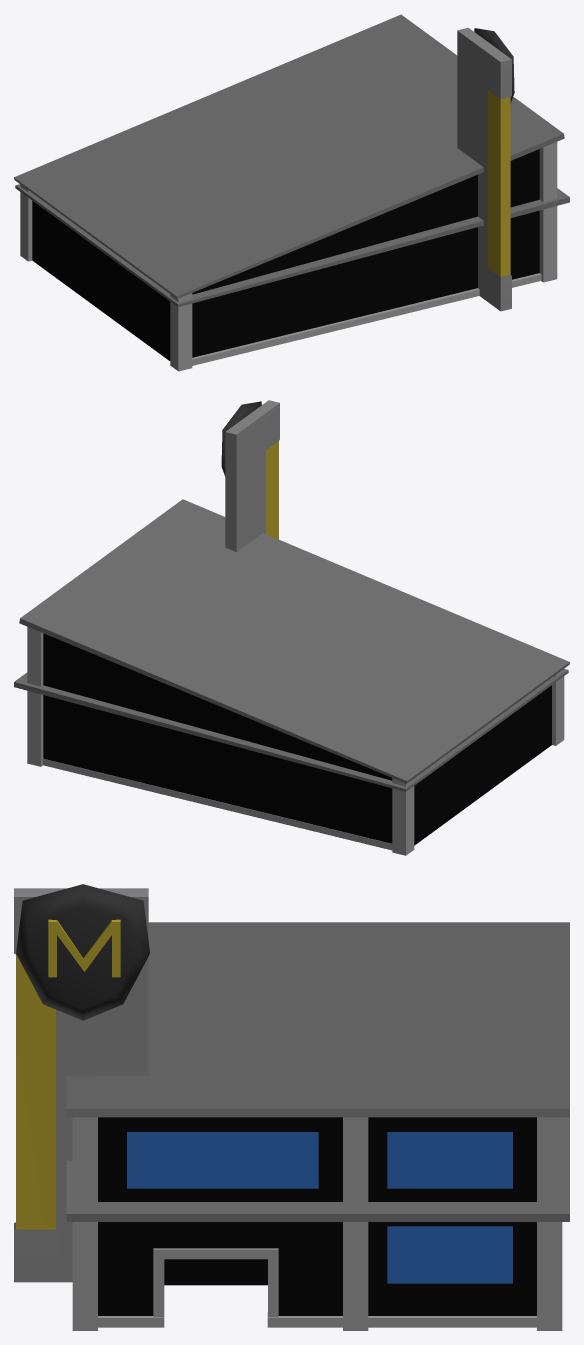
Rendered from B_CoffeeShop.fbx.
3 renders of one model, top to bottom at view 1: azimuth 30°, elevation 25°; view 2: azimuth 150°, elevation 25°; view 3: azimuth 270°, elevation 25°, orthographic. The views are drawn at different scales.
Visible parts, largest first — view 1: pCube9; view 2: pCube9; view 3: pCube9.
Boxes of the visible parts, box(x1,y1,x2,y2) form: pCube9: box(14, 14, 569, 371); pCube9: box(14, 400, 569, 855); pCube9: box(14, 884, 569, 1330).
Bounding box in the file's own units: 6.45 × 4.07 × 5.11.
